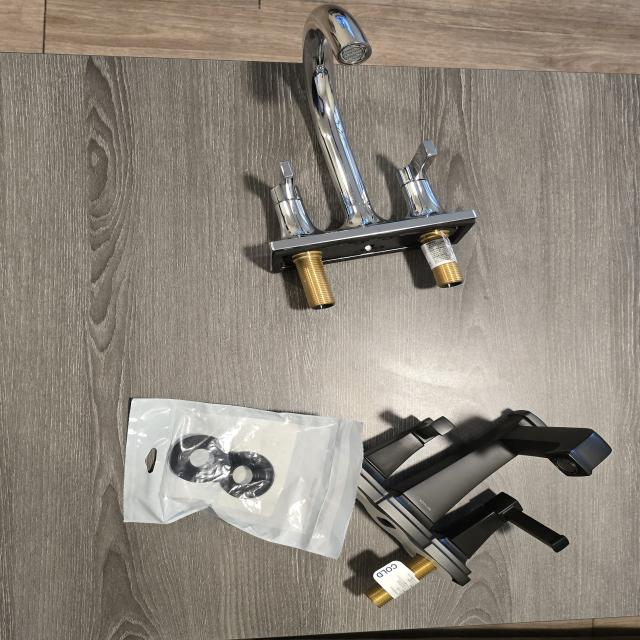10: (270, 5, 477, 309)
13: (124, 398, 363, 558)
9o: (356, 410, 611, 606)
